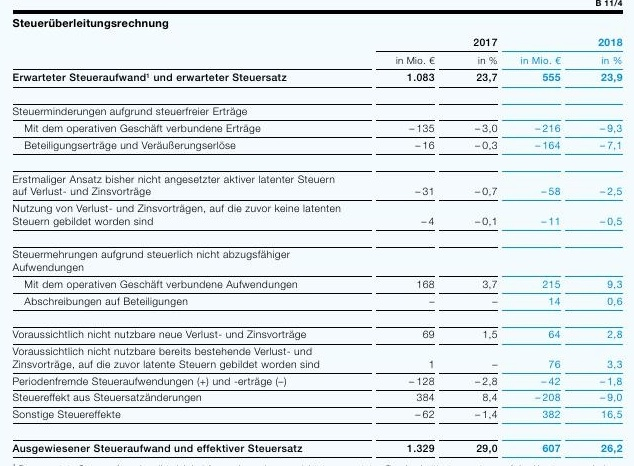table: (0, 0, 634, 466)
